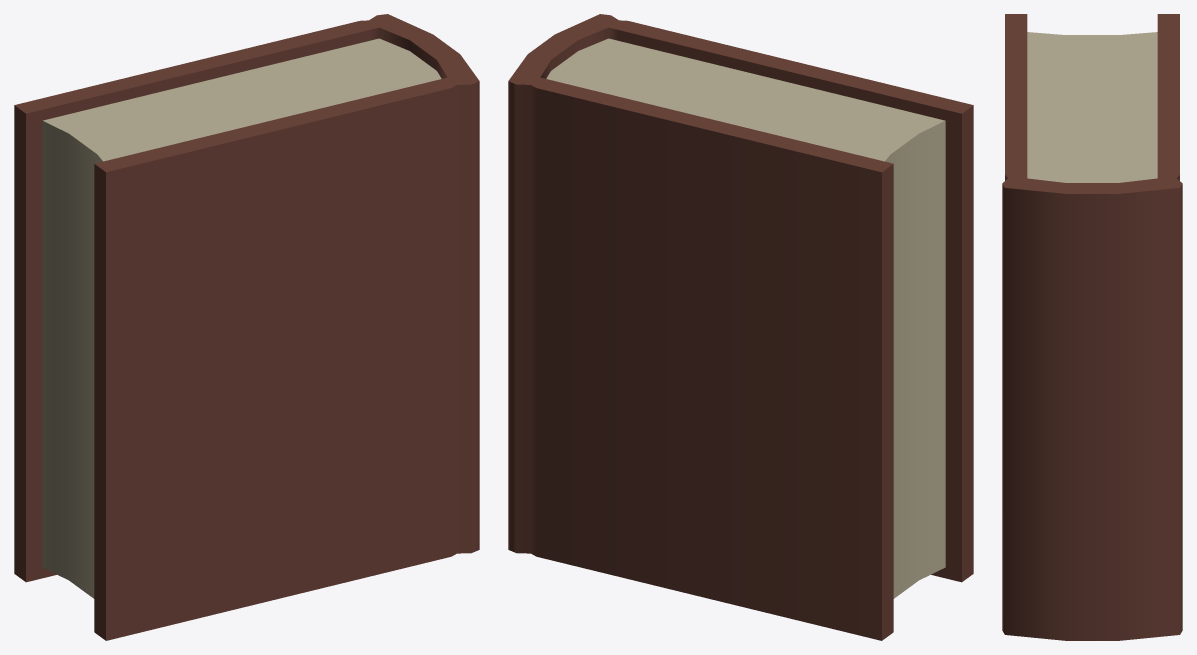
Rendered from Book_Big_Red.glb.
The picture shows the model from 3 angles, left to right: view 1: azimuth 30°, elevation 25°; view 2: azimuth 150°, elevation 25°; view 3: azimuth 270°, elevation 25°; orthographic projection. The views are drawn at different scales.
Visible parts, largest first — view 1: Book_Big_Red; view 2: Book_Big_Red; view 3: Book_Big_Red.
Part boxes in pixels (<box>): Book_Big_Red: <box>14,14,479,640</box>; Book_Big_Red: <box>508,14,973,640</box>; Book_Big_Red: <box>1002,14,1182,640</box>.
Bounding box in the file's own units: 0.3881 × 0.4495 × 0.1644.
Materials: 2 (2 with a texture image).
